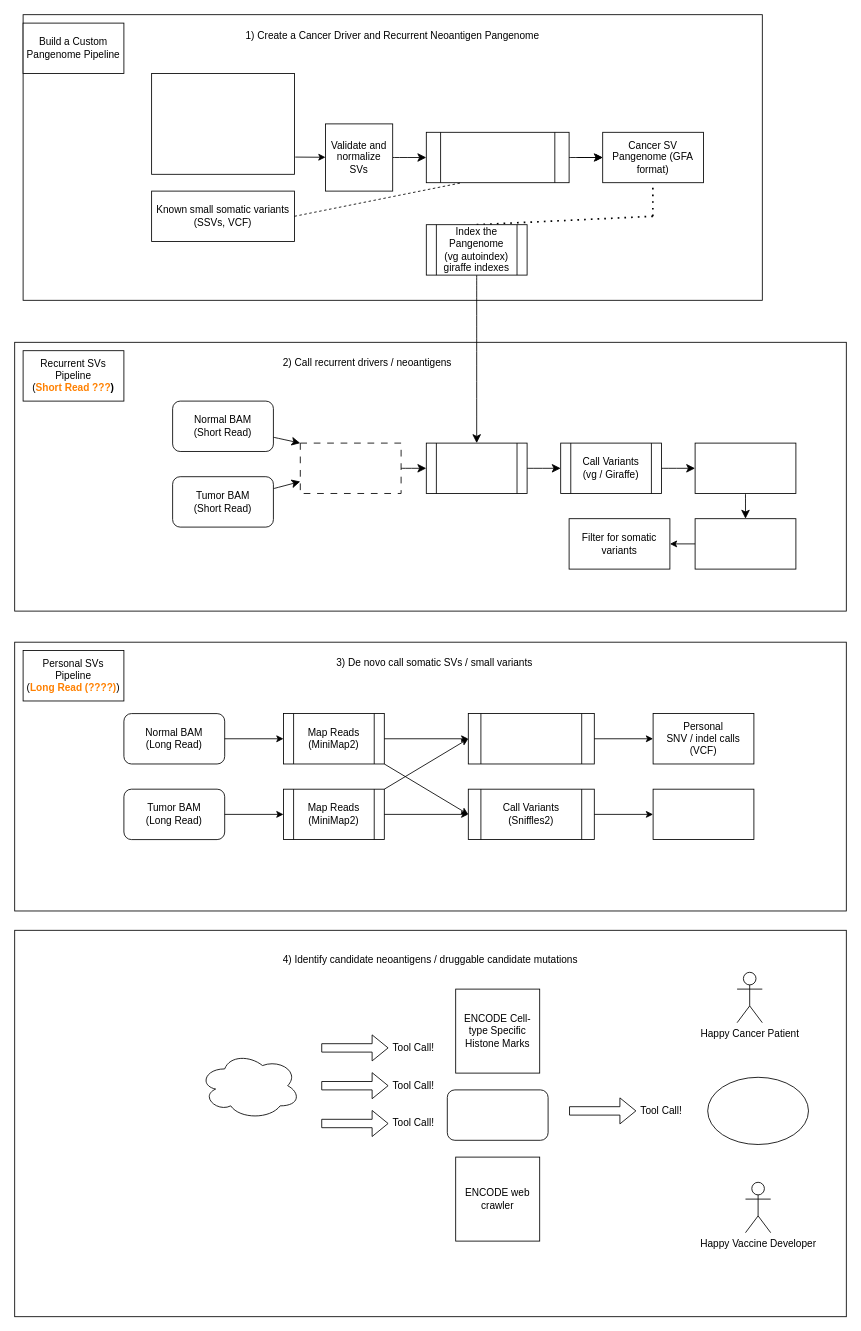
The diagram is 861 pixels wide and 1331 high, and some of its shapes have lost their labels. Each missing label, with the centre of its shape:
"Call Variants (DeepSomatic on GPUs)" belongs at (530,738).
"Druggable / Neoantigen candidate (TSV)" belongs at (757,1110).
"Known Cancer Driver SVs (think gene fusions, RET-CCDC6, NTRK fusions, BCR-ABL)" belongs at (222,123).
"LLM-Generated TSV mapping, SV -> Drug (E.G. ALK)" belongs at (497,1114).
"Magic Agent (Biomni)" belongs at (249,1085).
"Map Reads (vg / Giraffe)" belongs at (476,468).
"Name sort BAM to FASTQ (if is required)" belongs at (350,468).
"Personal SV Calls (VCF)" belongs at (703,814).
"QC, Benchmark and report" belongs at (745,543).
"Svaha3 (You're welcome, Ben)" belongs at (497,157).
"VCF" belongs at (745,468).
